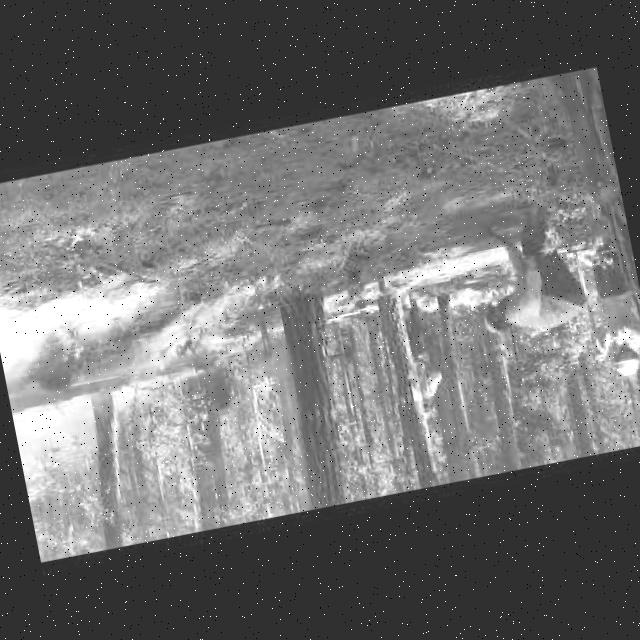fire: (116, 272, 301, 386), (208, 335, 260, 370)
